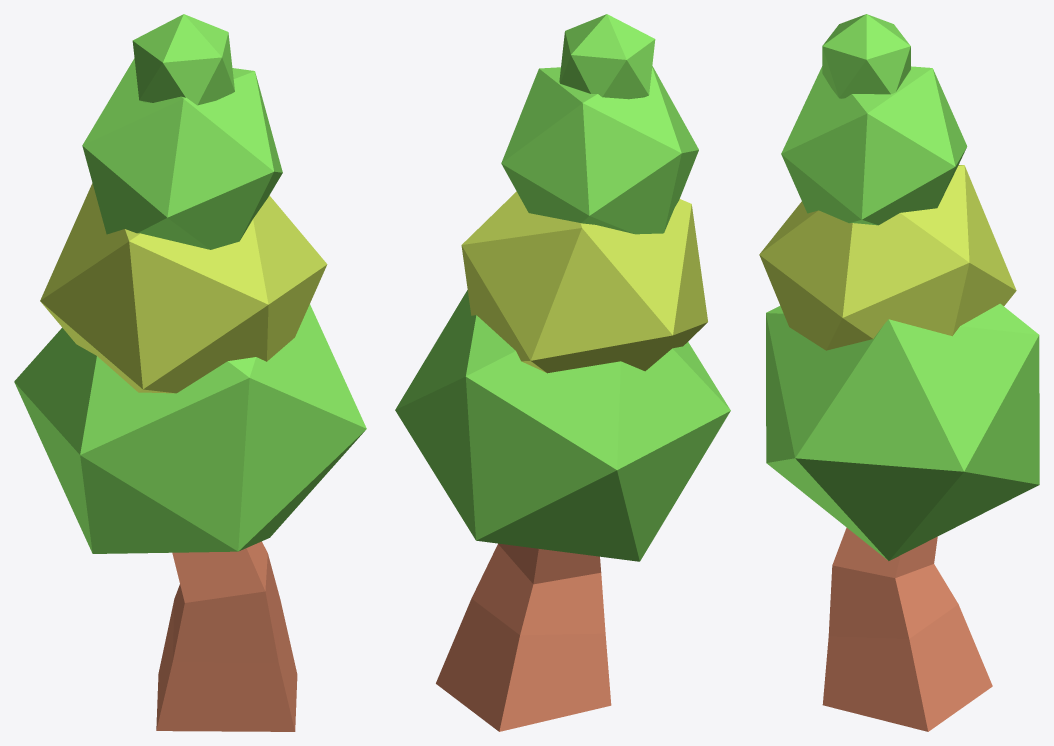
File: Tree 7.fbx
3 renders of one model, left to right at view 1: azimuth 30°, elevation 25°; view 2: azimuth 150°, elevation 25°; view 3: azimuth 270°, elevation 25°, orthographic. The views are drawn at different scales.
Parts seen in each view (by area): view 1: Tree 7; view 2: Tree 7; view 3: Tree 7.
Boxes of the visible parts, x1=… form: Tree 7: x1=14, y1=14, x2=366, y2=731; Tree 7: x1=395, y1=14, x2=730, y2=731; Tree 7: x1=759, y1=14, x2=1039, y2=731.
Size of the model in its own units: 211 by 503 by 196.
